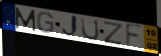F: (125, 22, 144, 49)
G: (37, 11, 55, 35)
J: (61, 14, 80, 39)
M: (14, 6, 37, 32)
U: (81, 17, 101, 42)
Z: (103, 20, 125, 47)
